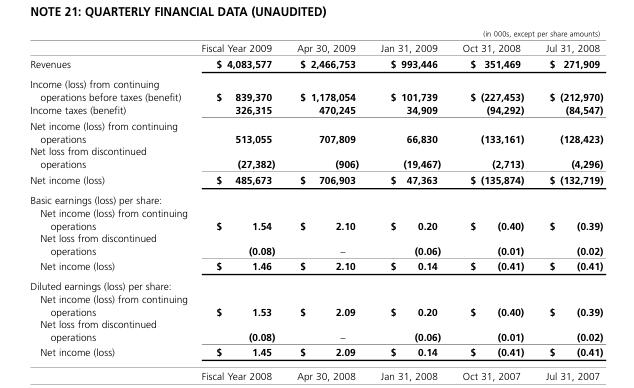table: (29, 28, 602, 357)
table column: (29, 28, 193, 357), (193, 28, 285, 357), (450, 28, 534, 357), (285, 28, 368, 357), (368, 28, 450, 357), (534, 28, 602, 357)
table column header: (29, 28, 602, 55)
table projected row header: (29, 189, 602, 206), (29, 275, 602, 292)
table row: (29, 73, 602, 102), (29, 117, 602, 144), (29, 144, 602, 171), (29, 231, 602, 257), (29, 317, 602, 343), (29, 206, 602, 231), (29, 292, 602, 317), (29, 55, 602, 73), (29, 171, 602, 189), (29, 257, 602, 275), (29, 189, 602, 206), (29, 275, 602, 292), (29, 39, 602, 55), (29, 102, 602, 117), (29, 343, 602, 357), (29, 28, 602, 39)
table spanning cell: (368, 28, 602, 39), (193, 28, 285, 55), (285, 28, 368, 55)
